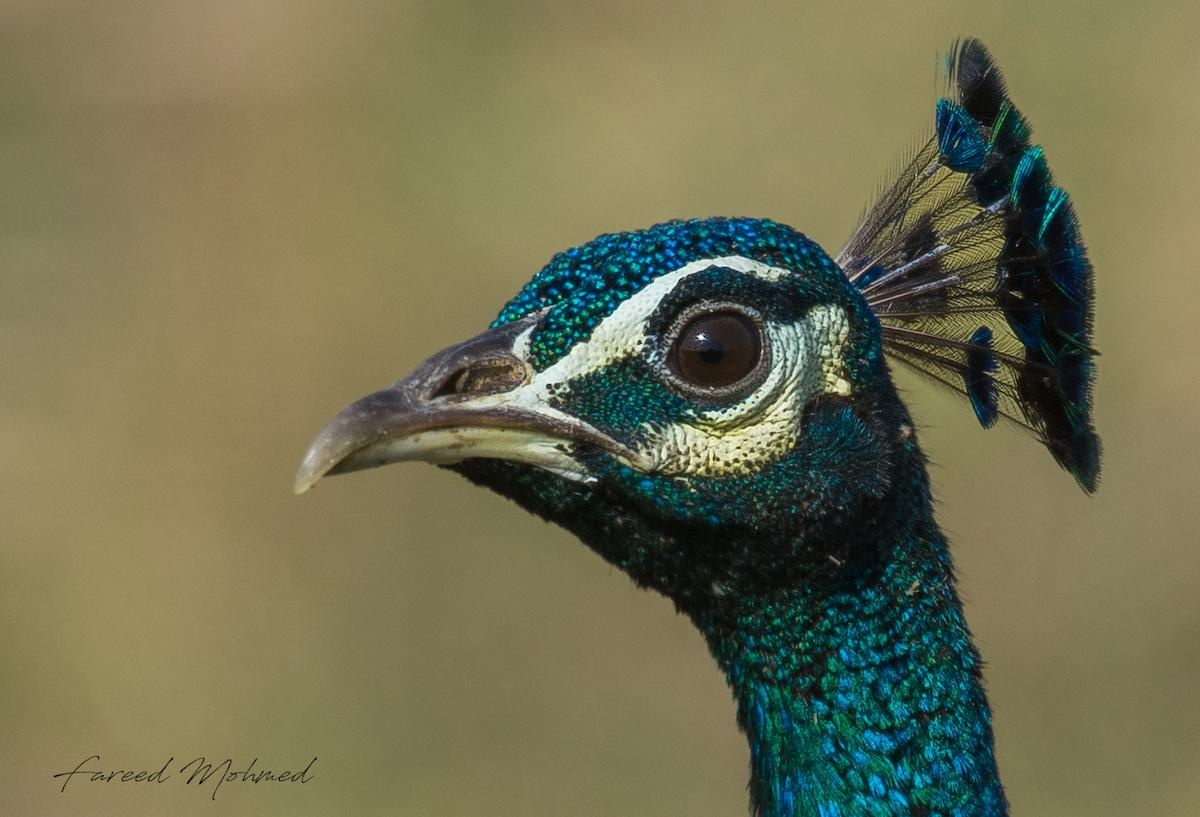peacock: (317, 132, 1181, 817)
